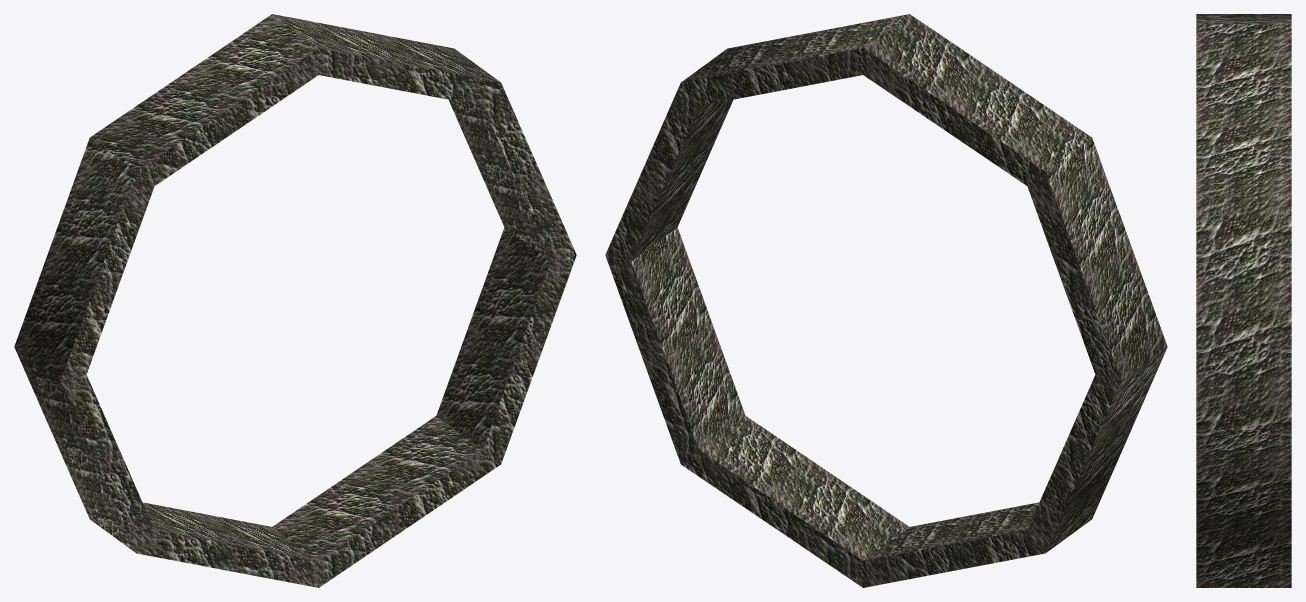
File: Metalic_Circle.obj
The picture shows the model from 3 angles, left to right: view 1: azimuth 30°, elevation 25°; view 2: azimuth 150°, elevation 25°; view 3: azimuth 270°, elevation 25°; orthographic projection. The views are drawn at different scales.
Visible parts, largest first — view 1: Metalic_Circle; view 2: Metalic_Circle; view 3: Metalic_Circle.
Boxes of the visible parts, <box> form: Metalic_Circle: <box>14,14,576,587</box>; Metalic_Circle: <box>605,14,1167,587</box>; Metalic_Circle: <box>1196,14,1291,587</box>.
Size of the model in its own units: 1024 by 1024 by 160.
1 material, 1 textured.
